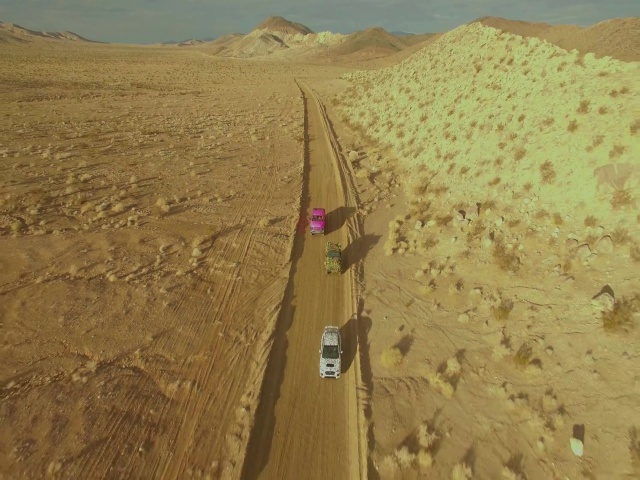vehicle: (319, 325, 342, 378), (323, 240, 343, 275), (310, 207, 326, 238)
